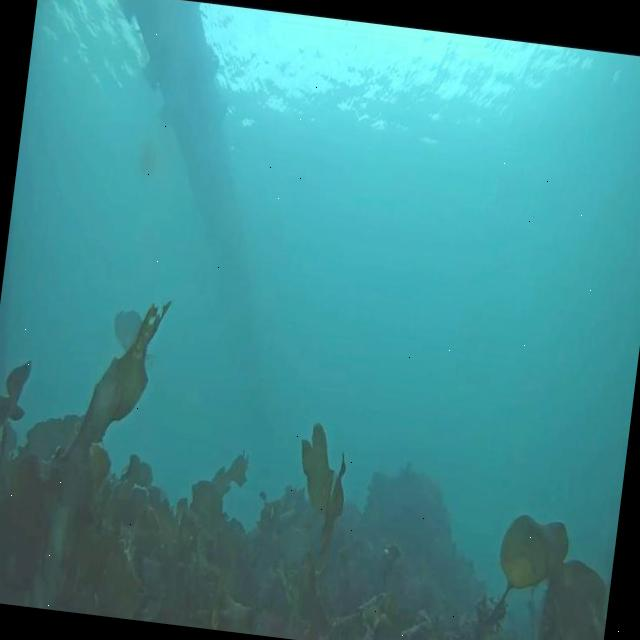fish: (112, 308, 146, 350)
